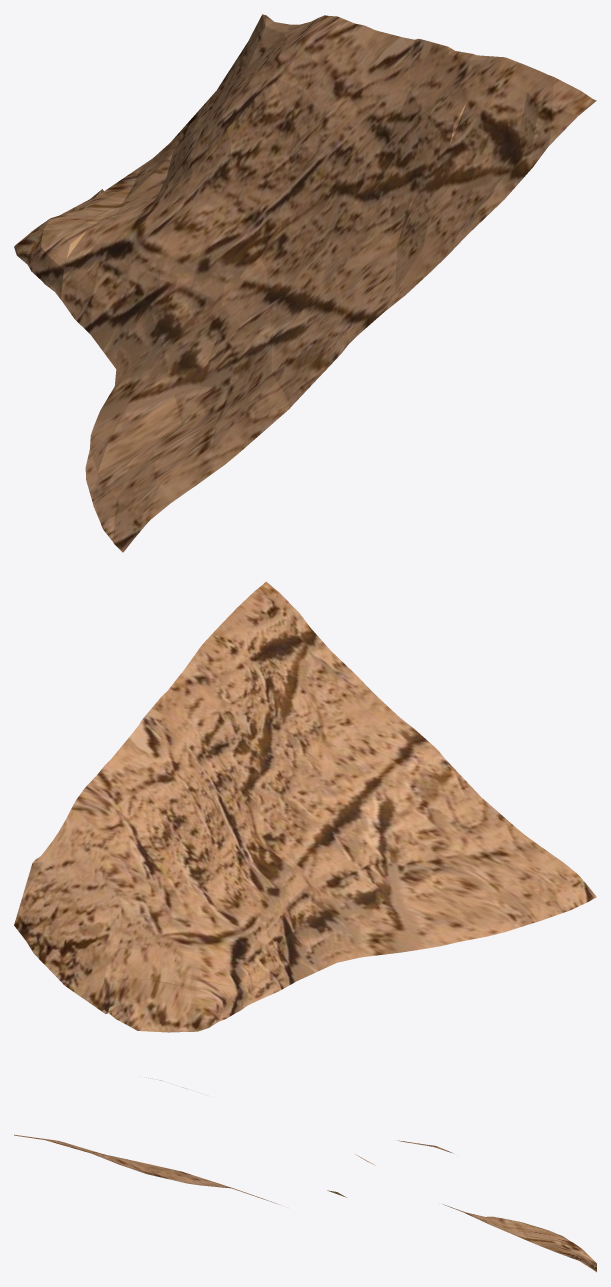
3 views of the same model, one above another, from view 1: azimuth 30°, elevation 25°; view 2: azimuth 150°, elevation 25°; view 3: azimuth 270°, elevation 25° (orthographic). The views are drawn at different scales.
Bounding box in the file's own units: 0.7917 × 0.5371 × 1.04.
2 materials, 2 textured.
